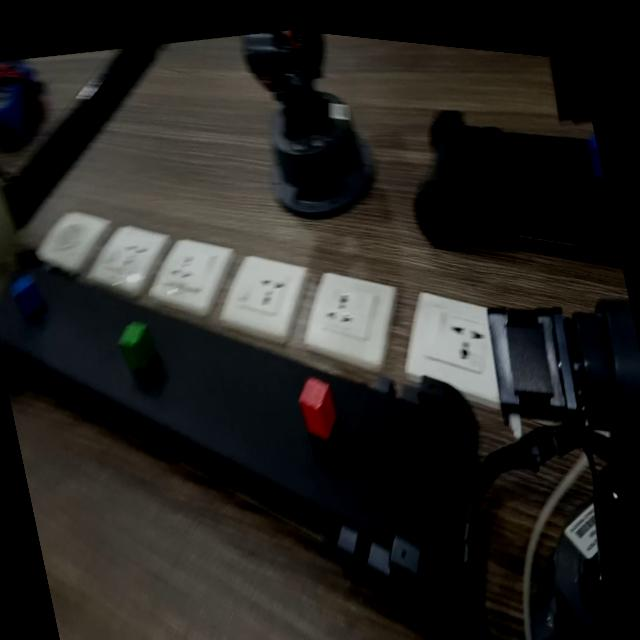cube: (282, 351, 347, 443), (105, 298, 166, 380), (5, 261, 46, 325)
